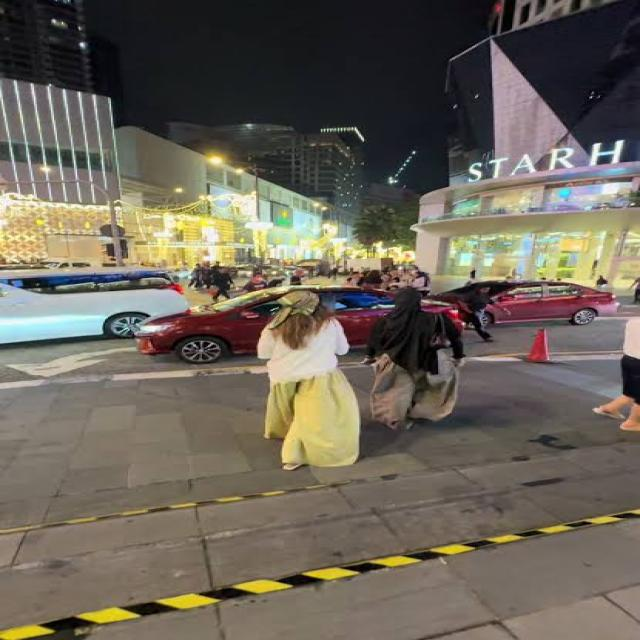Person: (254, 282, 370, 475), (364, 277, 474, 440)
